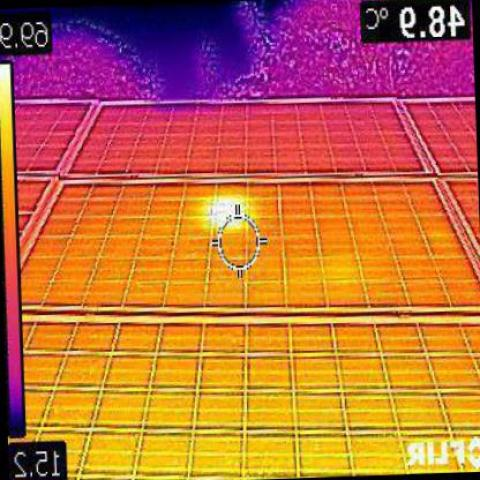fault: (207, 198, 248, 224)
